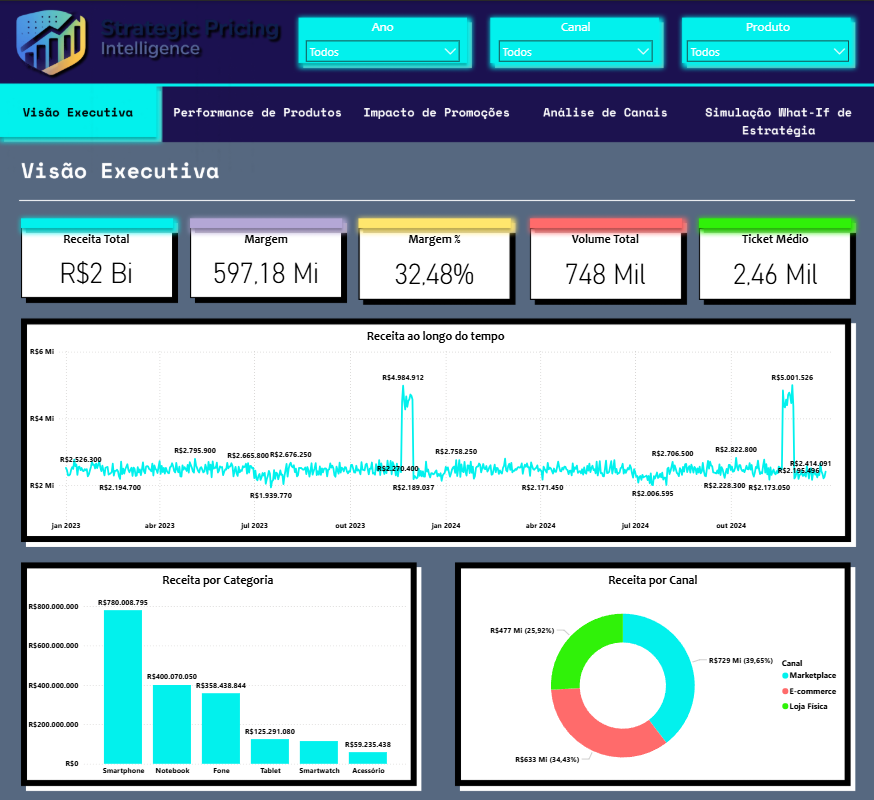

The page's visual inventory and layout, read from the dashboard file:
{"tool":"powerbi","page":{"name":"Visão Executiva","canvas":[1460,1338],"ordinal":0},"visuals":[{"type":"cardVisual","title":"Receita Total","fields":{"Data":["Fato_Vendas.Receita Total"]},"box":[36.7,385.6,251.1,108.9],"z":0},{"type":"cardVisual","title":"Margem","fields":{"Data":["Fato_Vendas.Margem"]},"box":[320,385.6,250,108.9],"z":1000},{"type":"cardVisual","title":"Margem %","fields":{"Data":["Fato_Vendas.Margem %"]},"box":[601.1,385.6,251.1,112.2],"z":2000},{"type":"cardVisual","title":"Volume Total","fields":{"Data":["Fato_Vendas.Volume Total"]},"box":[886.7,385.6,251.1,112.2],"z":3000},{"type":"cardVisual","title":"Ticket Médio","fields":{"Data":["Fato_Vendas.Ticket Médio"]},"box":[1168.9,385.6,251.1,112.2],"z":4000},{"type":"lineChart","title":"Receita ao longo do tempo","fields":{"Y":["Fato_Vendas.Receita Total"],"Category":["Calendario.Date.Variation.Hierarquia de datas.Ano","Calendario.Date.Variation.Hierarquia de datas.Trimestre","Calendario.Date.Variation.Hierarquia de datas.Mês","Calendario.Date.Variation.Hierarquia de datas.Dia"]},"box":[46.7,546.7,1363.3,346.7],"z":5000},{"type":"columnChart","title":"Receita por Categoria","fields":{"Y":["Fato_Vendas.Receita Total"],"Category":["Dim_Produto.Categoria"]},"box":[43.3,955,643.3,348.3],"z":6000},{"type":"donutChart","title":"Receita por Canal","fields":{"Y":["Fato_Vendas.Receita Total","Fato_Vendas.Receita Total"],"Category":["Dim_Canal.Canal"]},"box":[770,955,640,351.7],"z":7000},{"type":"slicer","title":"Produto","fields":{"Values":["Dim_Produto.Categoria"]},"box":[1138,30,290,82],"z":8000},{"type":"slicer","title":"Canal","fields":{"Values":["Dim_Canal.Canal"]},"box":[824,30,276,82],"z":9000},{"type":"slicer","title":"Ano","fields":{"Values":["Dim_Data.Ano"]},"box":[502,30,276,82],"z":10000},{"type":"pageNavigator","box":[1.7,140,1458.3,96.7],"z":11000}]}

Visuals, with their boxes in screenshot pixels (x1, y1, x2, y2), scaled from the page's 1460x1338 canvas onto the 874x800 screenshot:
"Receita Total" cardVisual: 22:231:172:296
"Margem" cardVisual: 192:231:341:296
"Margem %" cardVisual: 360:231:510:298
"Volume Total" cardVisual: 531:231:681:298
"Ticket Médio" cardVisual: 700:231:850:298
"Receita ao longo do tempo" lineChart: 28:327:844:534
"Receita por Categoria" columnChart: 26:571:411:779
"Receita por Canal" donutChart: 461:571:844:781
"Produto" slicer: 681:18:855:67
"Canal" slicer: 493:18:658:67
"Ano" slicer: 301:18:466:67
pageNavigator: 1:84:873:142
